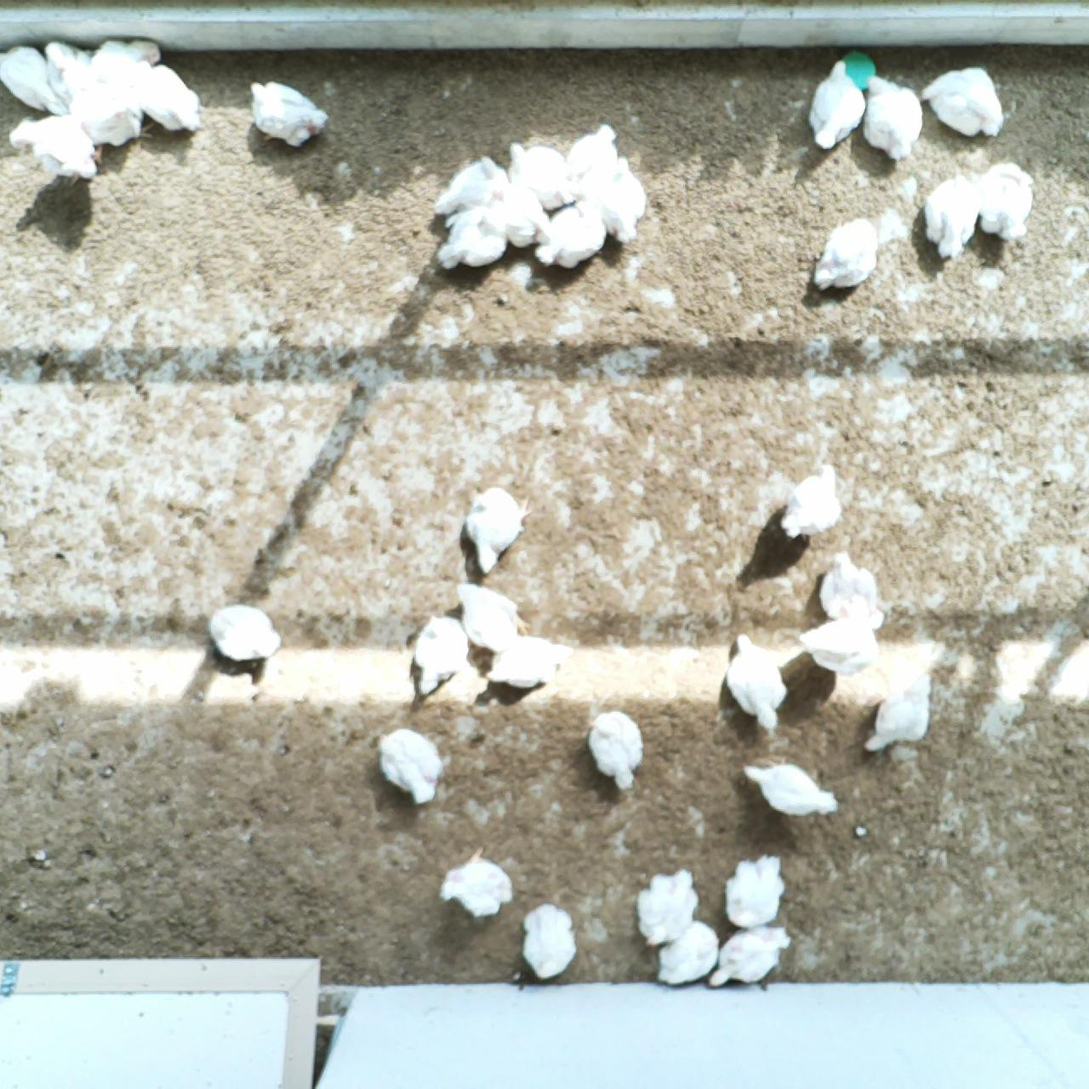chicken: (917, 60, 1008, 143), (7, 114, 105, 190), (740, 750, 841, 823), (724, 630, 792, 733), (461, 484, 533, 580), (67, 77, 156, 151), (797, 603, 880, 680), (585, 152, 650, 249), (918, 170, 985, 263), (862, 673, 936, 757), (438, 843, 517, 920), (248, 76, 331, 149), (819, 546, 888, 633), (454, 578, 531, 655), (806, 56, 868, 151), (633, 864, 702, 949), (705, 921, 791, 989), (131, 57, 205, 136), (483, 631, 577, 692), (862, 71, 923, 165), (810, 216, 882, 295), (435, 200, 510, 275), (531, 200, 609, 272), (376, 726, 443, 809), (777, 462, 845, 543), (720, 849, 787, 930), (974, 161, 1040, 243), (586, 707, 648, 794), (411, 613, 473, 699), (507, 138, 579, 212), (433, 152, 509, 218), (0, 42, 69, 113), (520, 901, 579, 982), (653, 919, 721, 989), (207, 603, 284, 664), (489, 179, 555, 248), (86, 36, 162, 88), (42, 39, 96, 108), (566, 118, 616, 192)
